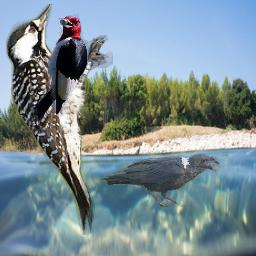Crow: (100, 152, 221, 208)
Woodpecker: (6, 4, 113, 235), (28, 9, 89, 128)
